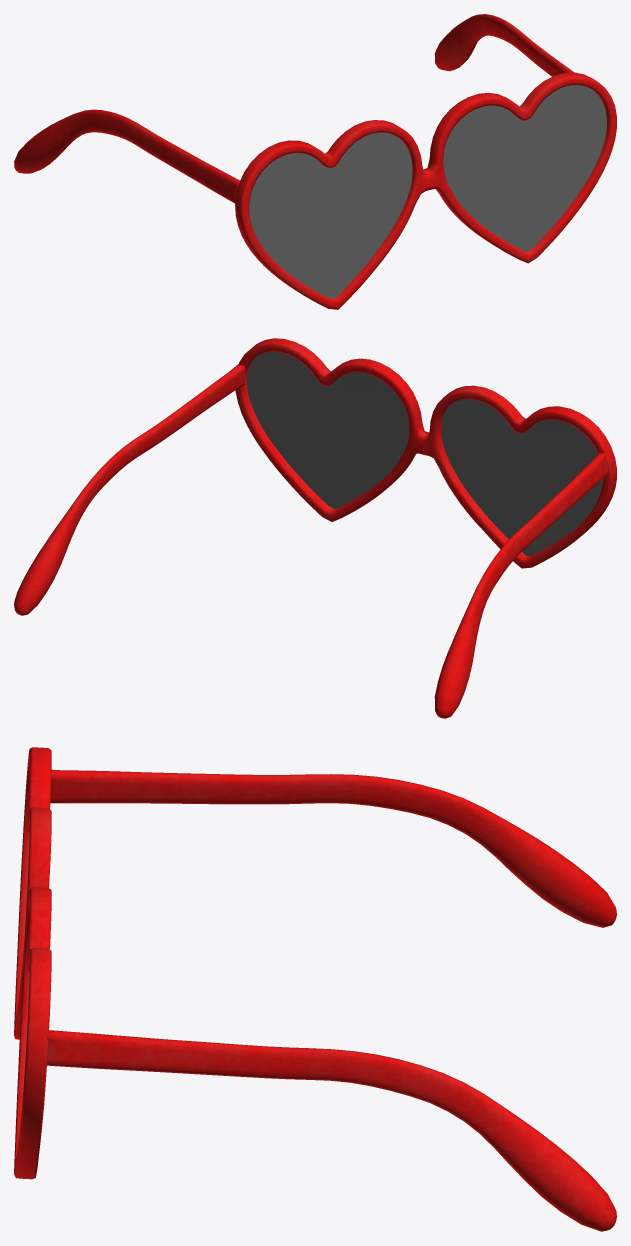
The model's file is heartglasses.glb.
3 views of the same model, one above another, from view 1: azimuth 30°, elevation 25°; view 2: azimuth 150°, elevation 25°; view 3: azimuth 270°, elevation 25° (orthographic). The views are drawn at different scales.
Parts seen in each view (by area): view 1: verre, monture; view 2: verre, monture; view 3: monture.
Boxes of the visible parts, x1,y1,x2,y2 form: verre: (249,85,606,298); monture: (14,14,616,309); verre: (247,352,602,555); monture: (14,338,616,718); monture: (14,747,616,1231).
Bounding box in the file's own units: 4.91 × 1.84 × 3.95.
Materials: 2 (2 with a texture image).
